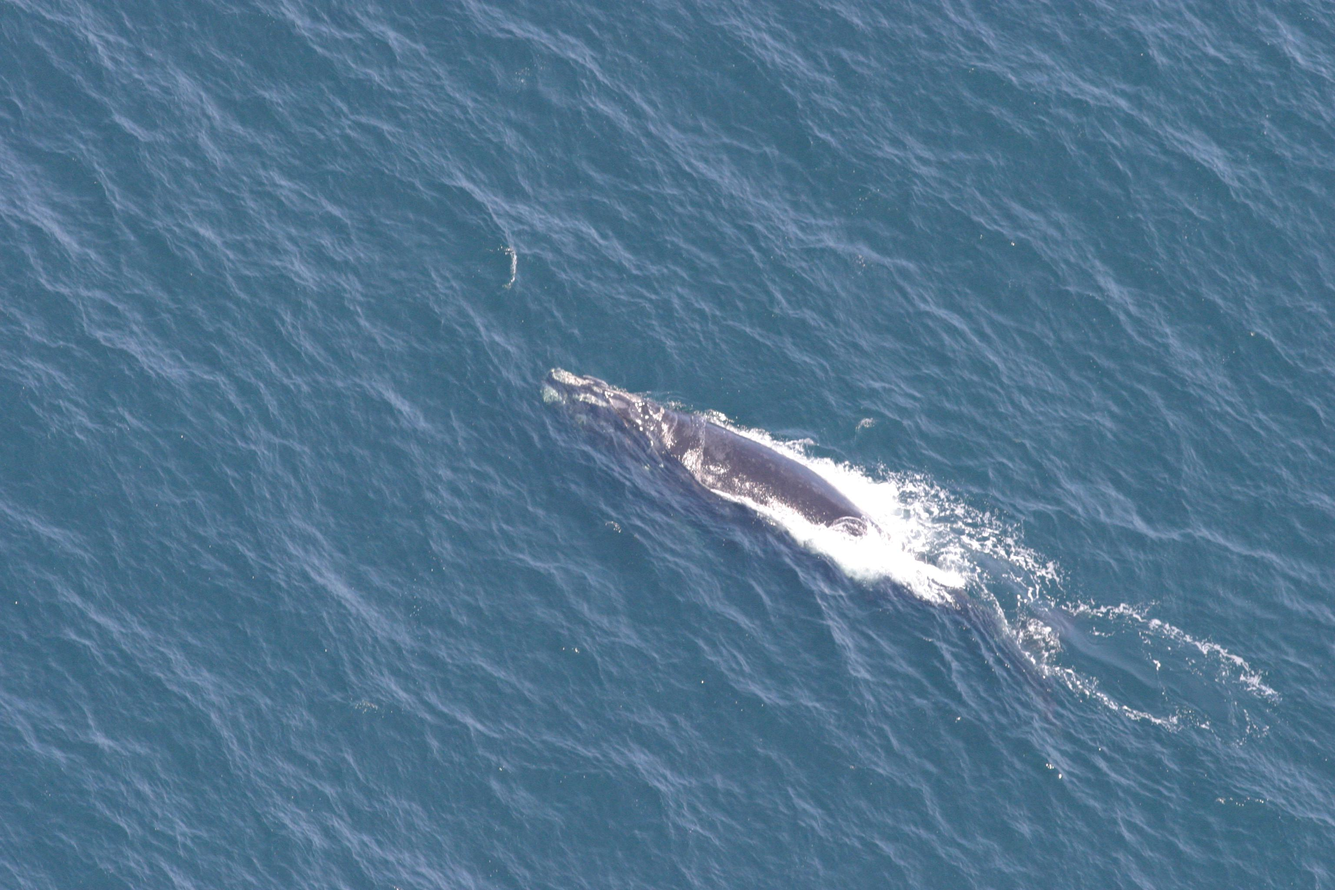whale: (533, 362, 1057, 690)
